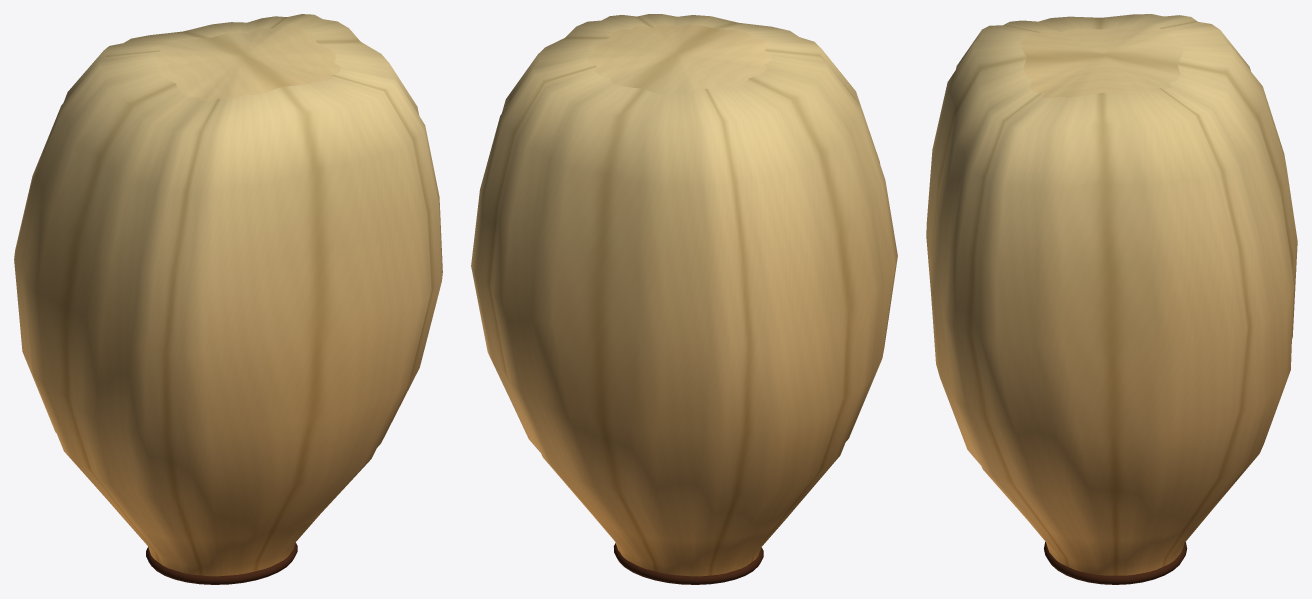
Rendered from cantoya_v2.obj.
3 views of the same model, side by side, from view 1: azimuth 30°, elevation 25°; view 2: azimuth 150°, elevation 25°; view 3: azimuth 270°, elevation 25° (orthographic). The views are drawn at different scales.
Visible parts, largest first — view 1: Cantoya_V2; view 2: Cantoya_V2; view 3: Cantoya_V2.
Part boxes in pixels (<box>): Cantoya_V2: <box>14,14,442,584</box>; Cantoya_V2: <box>471,14,897,584</box>; Cantoya_V2: <box>926,14,1297,584</box>.
Size of the model in its own units: 1.07 by 1.46 by 0.9708.
Materials: 6 (3 with a texture image).
